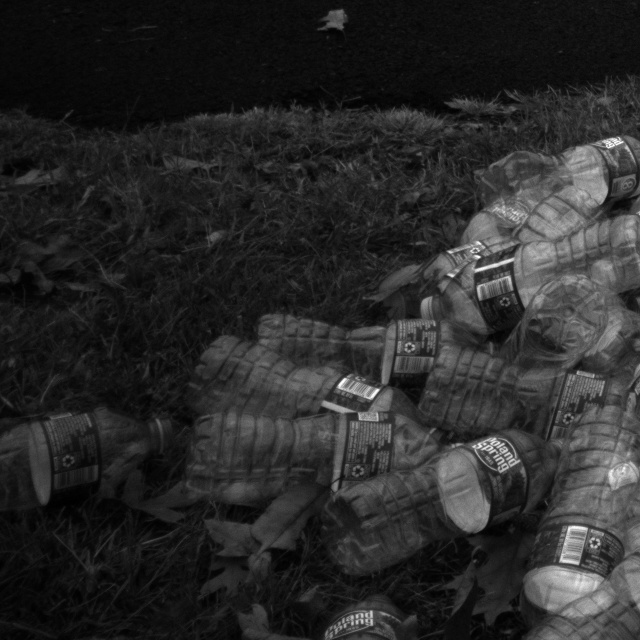bottle: (309, 422, 565, 579), (421, 206, 640, 343), (514, 415, 640, 640), (178, 402, 449, 502), (245, 306, 459, 399), (189, 332, 403, 416), (509, 506, 640, 640), (480, 125, 640, 225)
